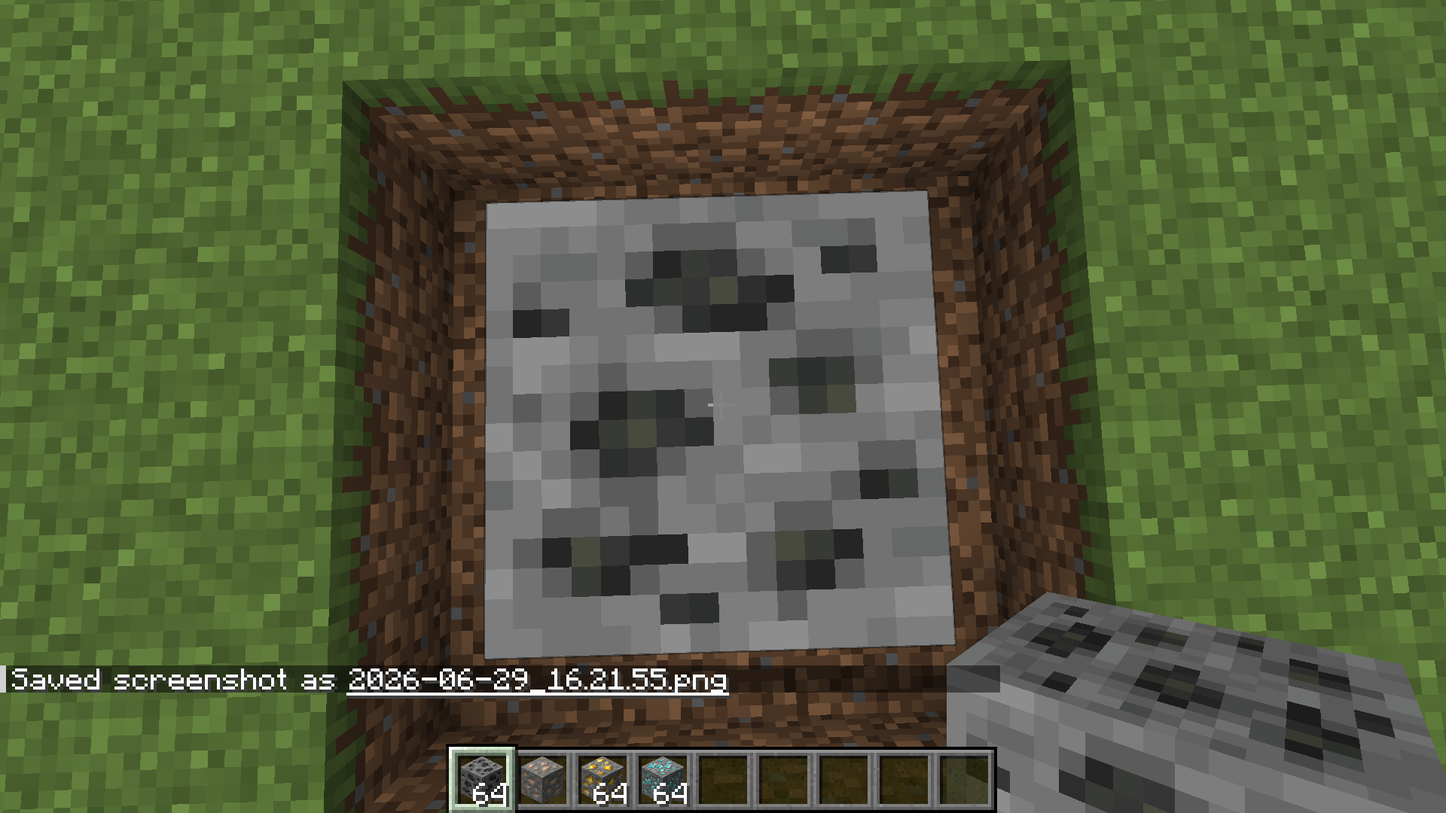coal ore: (490, 194, 954, 657)
